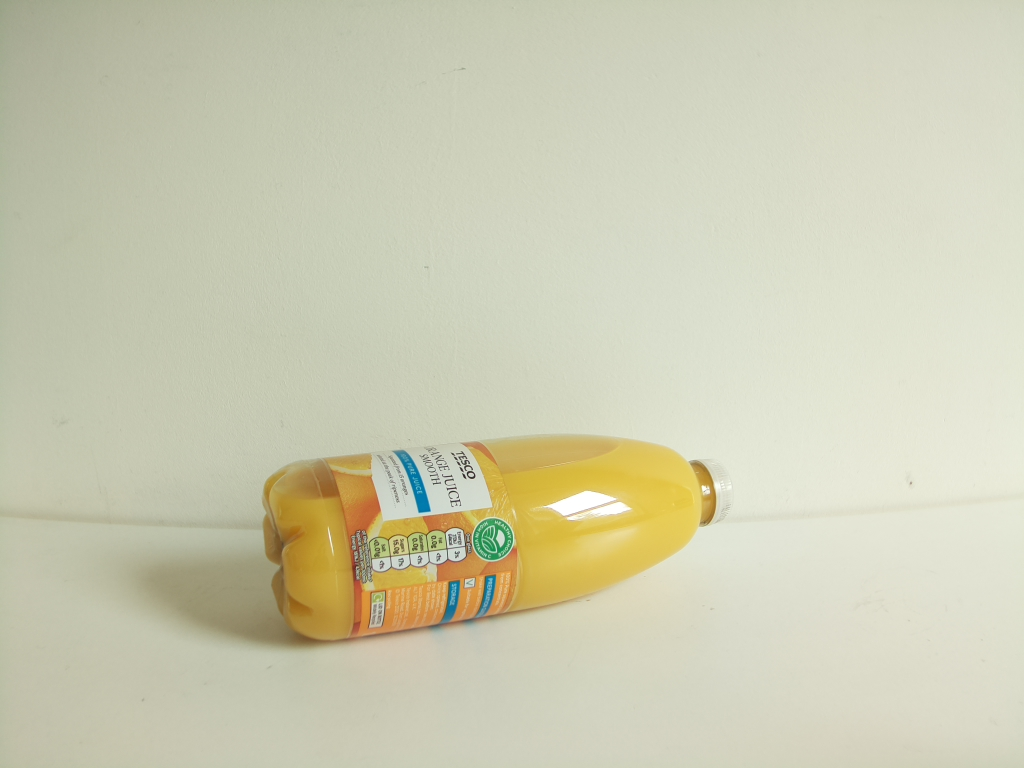juice: (256, 433, 738, 649)
